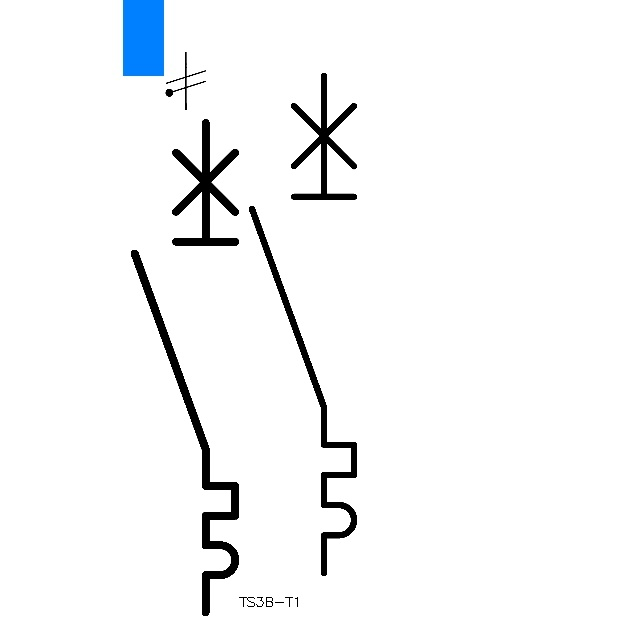interruptor_termomagnetico: (239, 63, 367, 586), (122, 110, 248, 625)
